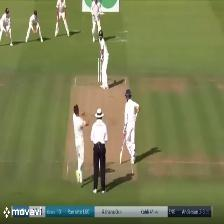batsman: (89, 26, 116, 89)
